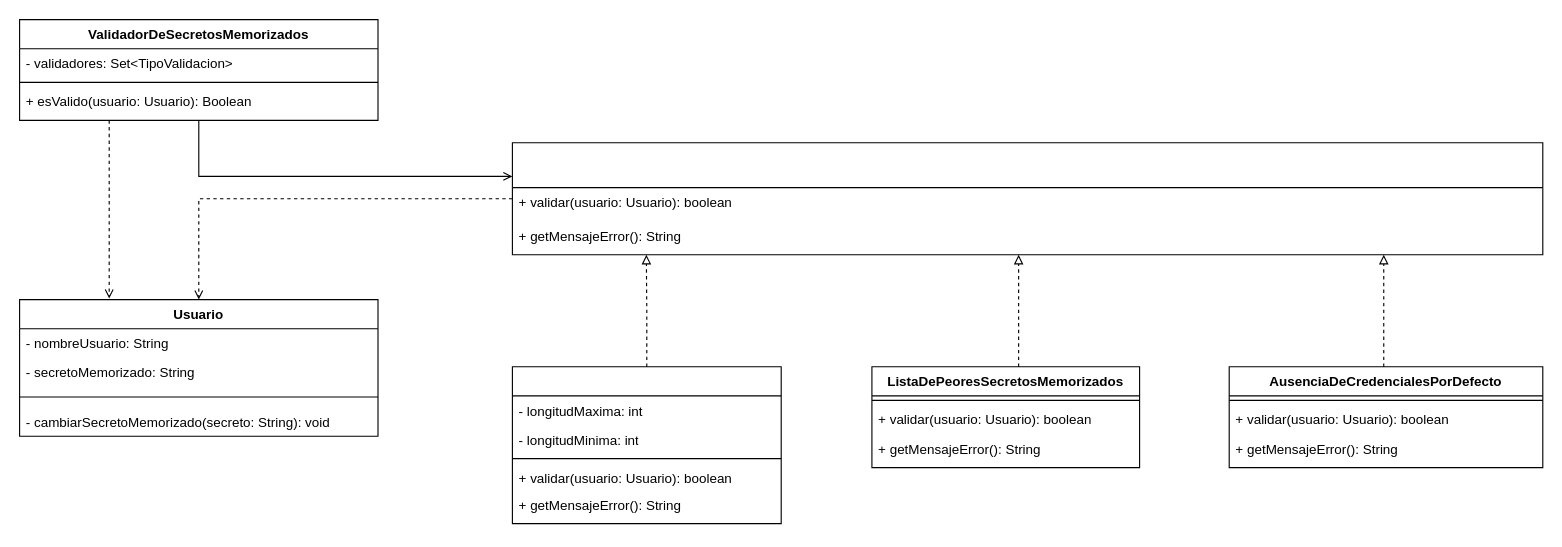
This 1562x547 diagram has some shape labels left out. Each missing label, with the box of its shape:
<<I nterface >> TipoValidacion: (511, 142, 1543, 255)
LongitudEstipulada: (511, 366, 781, 524)
